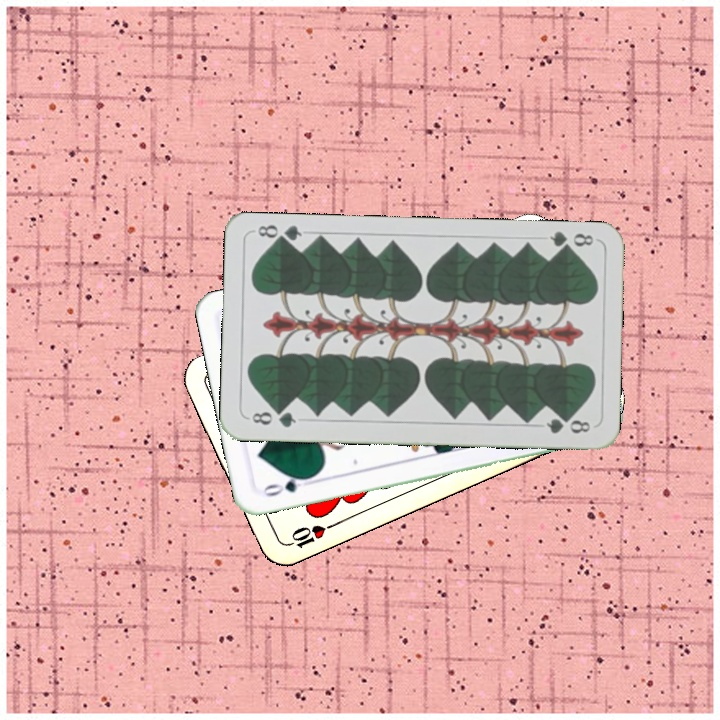G8: (545, 228, 596, 255), (244, 406, 298, 430)
GO: (259, 472, 315, 499)
H10: (282, 519, 338, 551)
